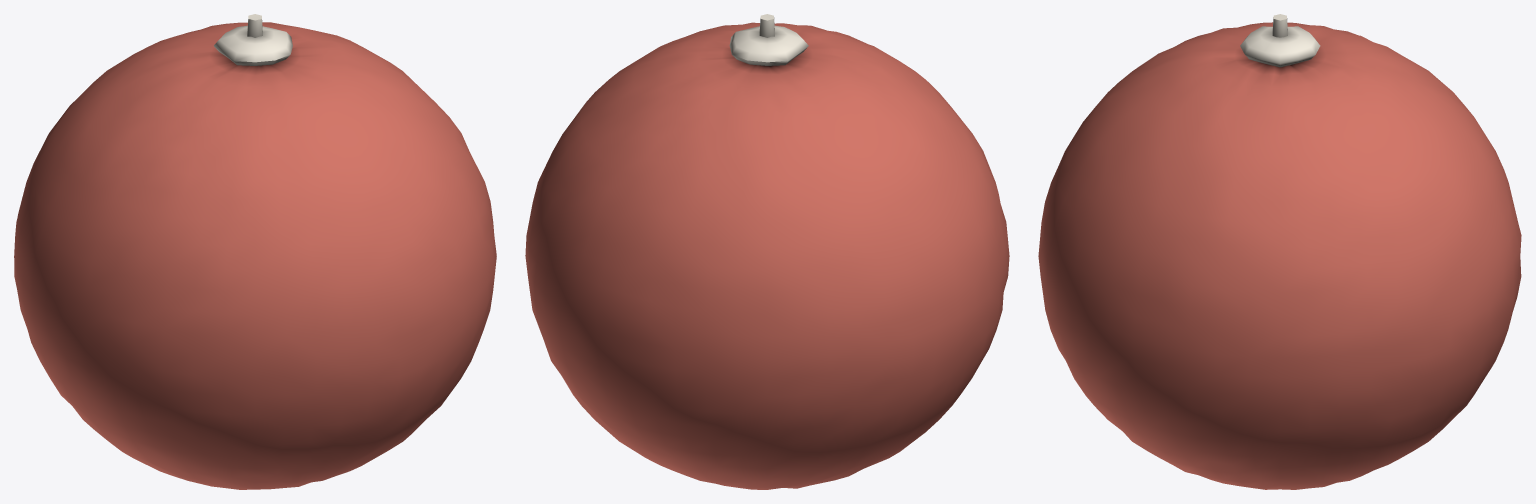
Rendered from food_orange.glb.
3 views of the same model, side by side, from view 1: azimuth 30°, elevation 25°; view 2: azimuth 150°, elevation 25°; view 3: azimuth 270°, elevation 25° (orthographic).
Parts seen in each view (by area): view 1: PART; view 2: PART; view 3: PART.
Part boxes in pixels (x1,y1,x2,y2): PART: (14, 14, 496, 489); PART: (525, 14, 1009, 489); PART: (1038, 14, 1521, 489).
Size of the model in its own units: 0.1337 by 0.141 by 0.1339.
